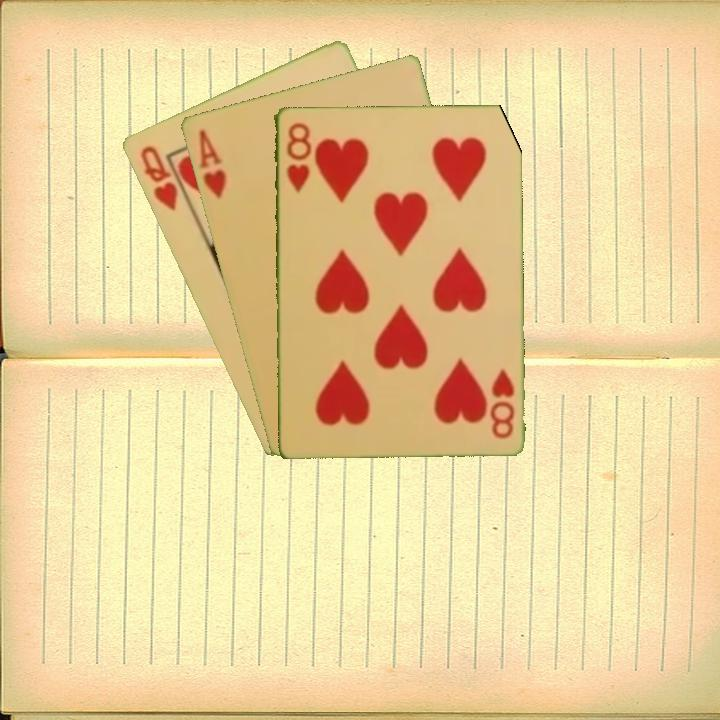8h: (486, 365, 517, 441), (282, 119, 312, 196)
Ah: (194, 125, 229, 202)
Qh: (136, 142, 180, 214)
